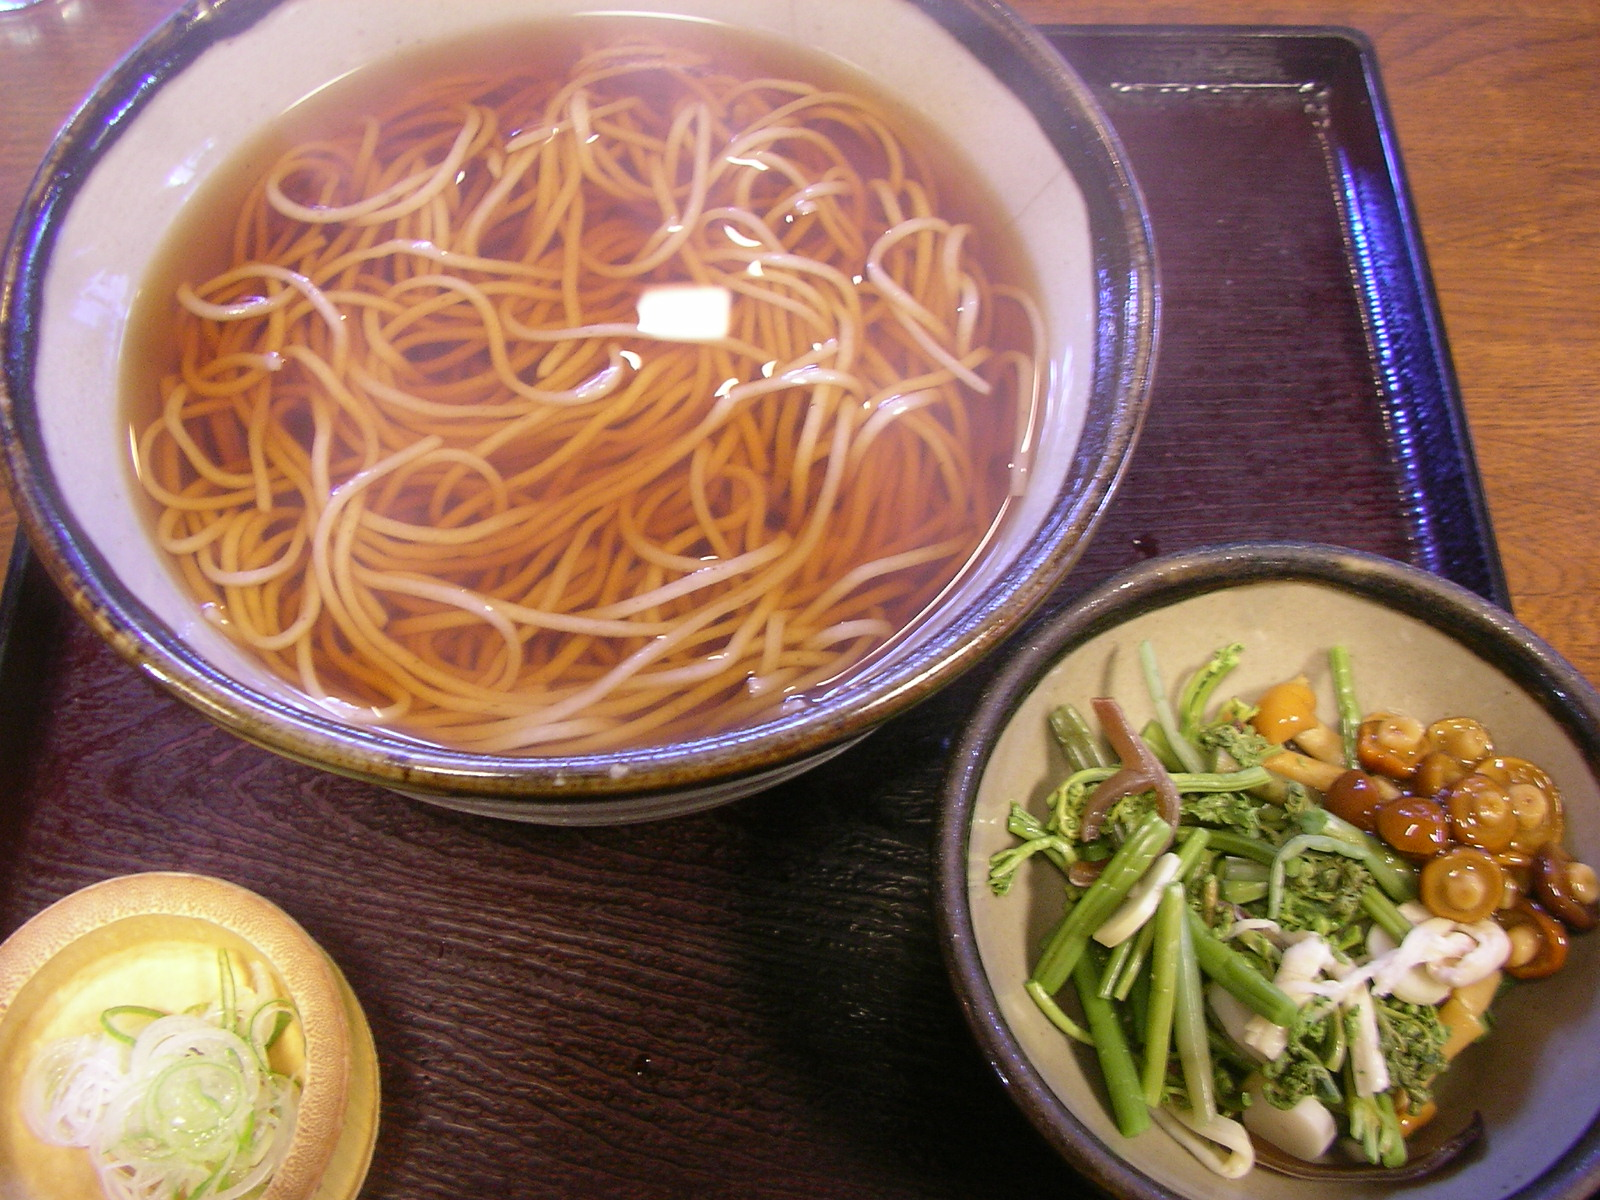Soba: (156, 48, 1023, 768)
